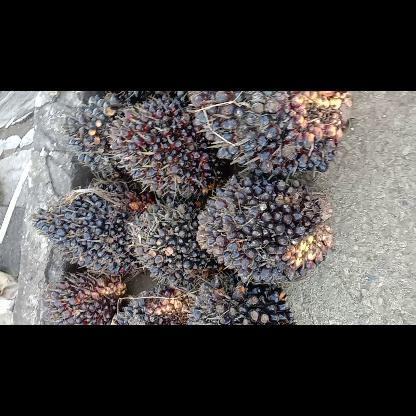TBS mentah: (194, 168, 336, 290), (181, 90, 357, 180), (25, 175, 155, 279), (108, 93, 230, 199), (125, 195, 235, 293), (60, 91, 150, 195), (184, 272, 302, 324), (43, 270, 141, 324), (106, 284, 204, 324)
